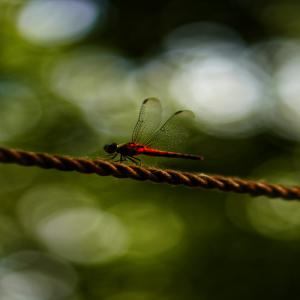locust: (89, 89, 204, 171)
